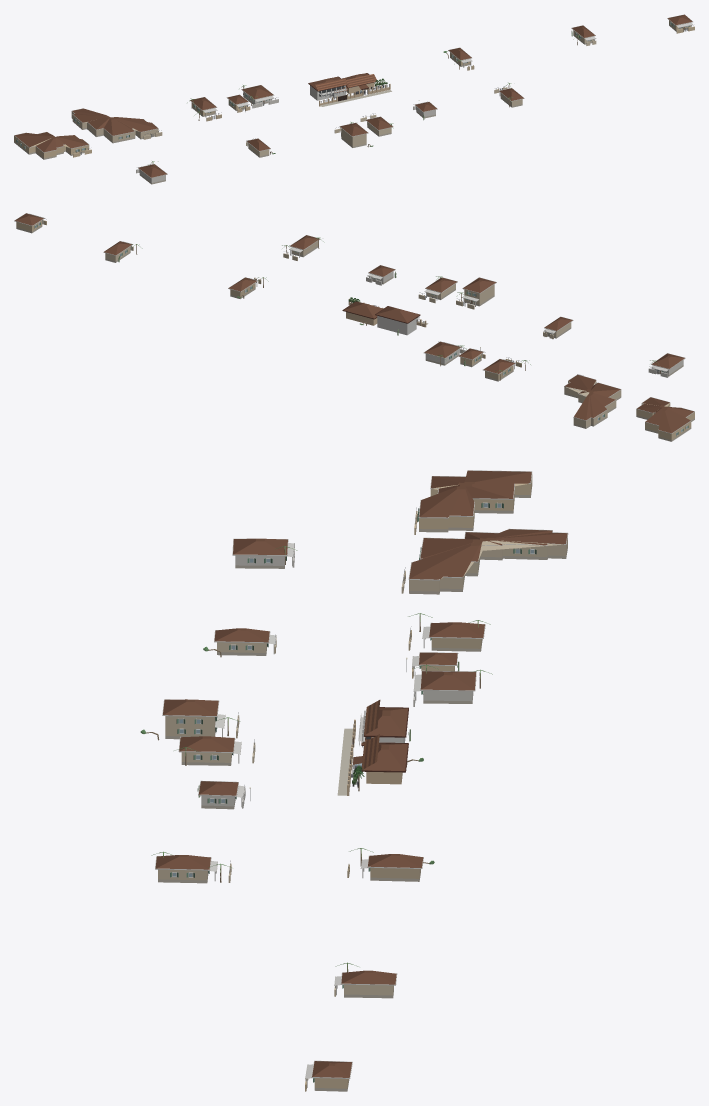
Rendered from nw_mk_wege.glb.
3 renders of one model, top to bottom at view 1: azimuth 30°, elevation 25°; view 2: azimuth 150°, elevation 25°; view 3: azimuth 270°, elevation 25°, orthographic. The views are drawn at different scales.
Parts seen in each view (by area): view 1: nw_mk_wege_lod0; view 2: nw_mk_wege_lod0; view 3: nw_mk_wege_lod0.
Part boxes in pixels (bbox=[...]): nw_mk_wege_lod0: bbox=[14, 14, 694, 184]; nw_mk_wege_lod0: bbox=[14, 213, 694, 441]; nw_mk_wege_lod0: bbox=[140, 470, 568, 1091].
Size of what is drawn, in the model's own units: 299 by 11.52 by 88.25.
